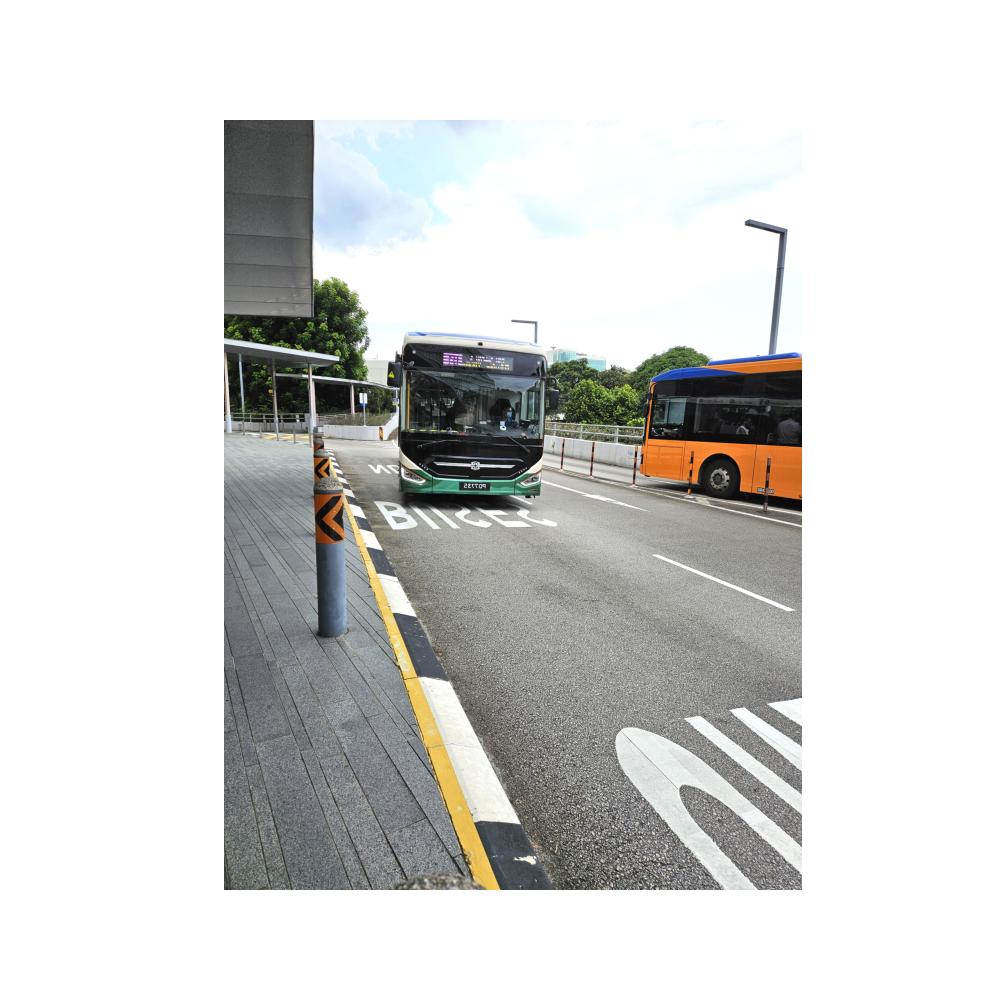bus: (384, 330, 550, 501), (640, 350, 802, 516)
